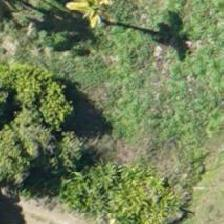coconut_tree: (34, 0, 124, 50)
